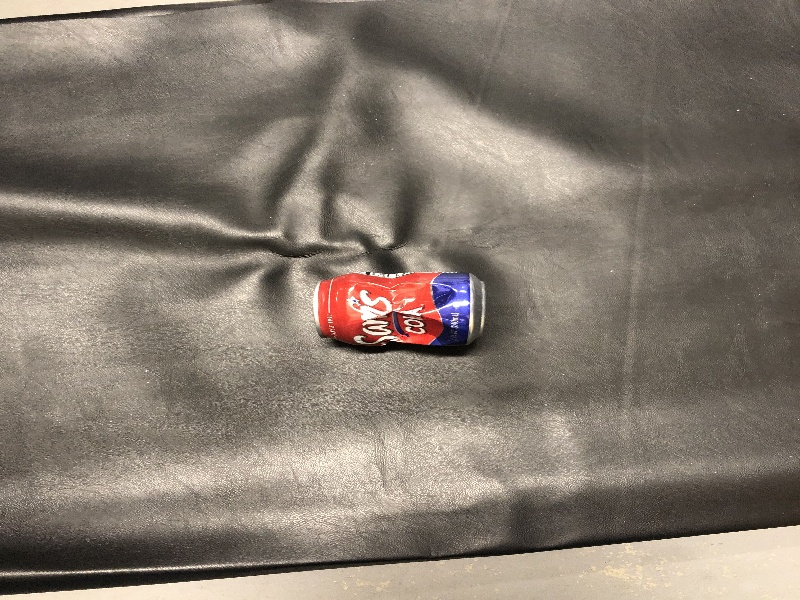metal: (300, 260, 499, 361)
